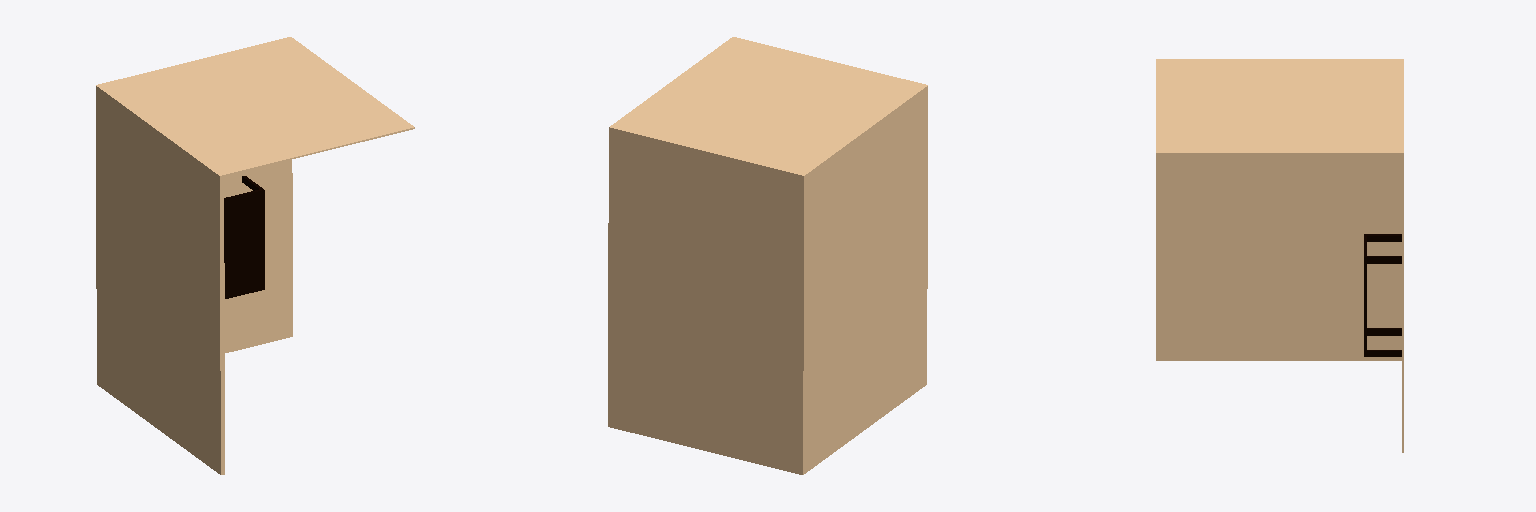
The model's file is wall.obj.
The picture shows the model from 3 angles: view 1: azimuth 30°, elevation 25°; view 2: azimuth 150°, elevation 25°; view 3: azimuth 270°, elevation 25°; orthographic projection.
Visible parts, largest first — view 1: wall.005_Flower_pot.005, wall_Flower_pot; view 2: wall.005_Flower_pot.005; view 3: wall.005_Flower_pot.005, wall_Flower_pot.
Part boxes in pixels (left/top/right/bottom): wall.005_Flower_pot.005: left=96, top=37, right=414, bottom=474; wall_Flower_pot: left=224, top=176, right=264, bottom=298; wall.005_Flower_pot.005: left=608, top=37, right=927, bottom=474; wall.005_Flower_pot.005: left=1156, top=59, right=1403, bottom=452; wall_Flower_pot: left=1364, top=234, right=1401, bottom=356.
Size of the model in its own units: 419 by 612 by 457.